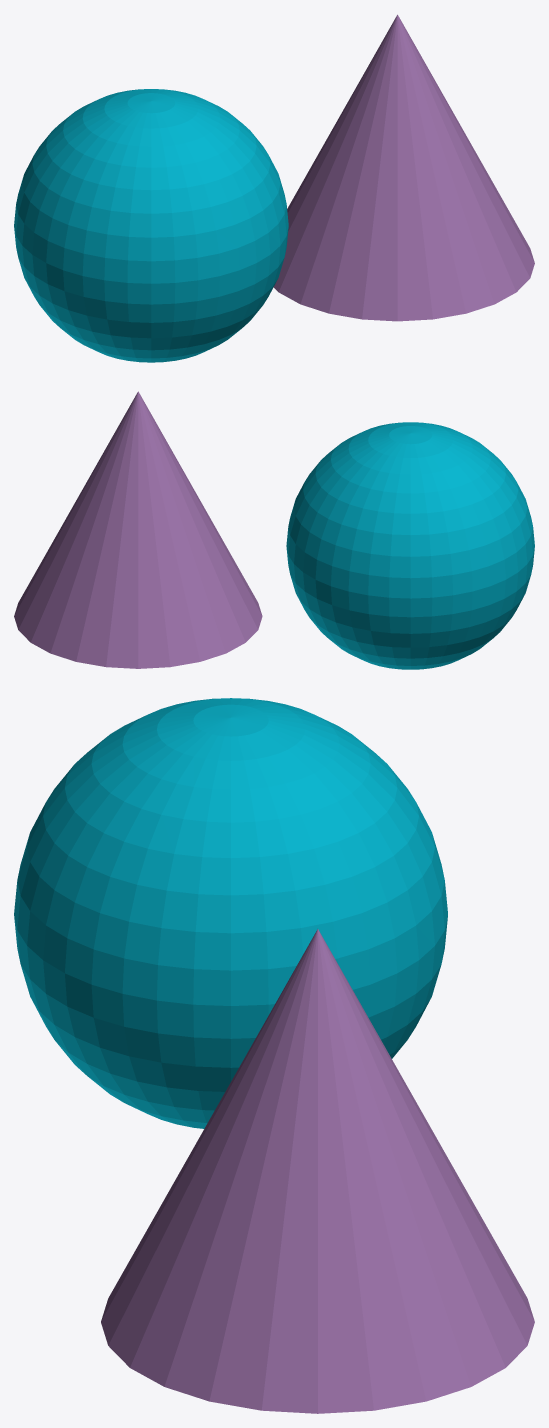
3 renders of one model, top to bottom at view 1: azimuth 30°, elevation 25°; view 2: azimuth 150°, elevation 25°; view 3: azimuth 270°, elevation 25°, orthographic. The views are drawn at different scales.
Parts seen in each view (by area): view 1: Mesh_Mesh_head_geo.001_lambert2SG.001; view 2: Mesh_Mesh_head_geo.001_lambert2SG.001; view 3: Mesh_Mesh_head_geo.001_lambert2SG.001.
Part boxes in pixels (box(x1,y1,x2,y2)): Mesh_Mesh_head_geo.001_lambert2SG.001: box(14, 14, 534, 362); Mesh_Mesh_head_geo.001_lambert2SG.001: box(14, 391, 534, 669); Mesh_Mesh_head_geo.001_lambert2SG.001: box(14, 698, 534, 1413).
Size of the model in its own units: 43 by 20 by 24.
